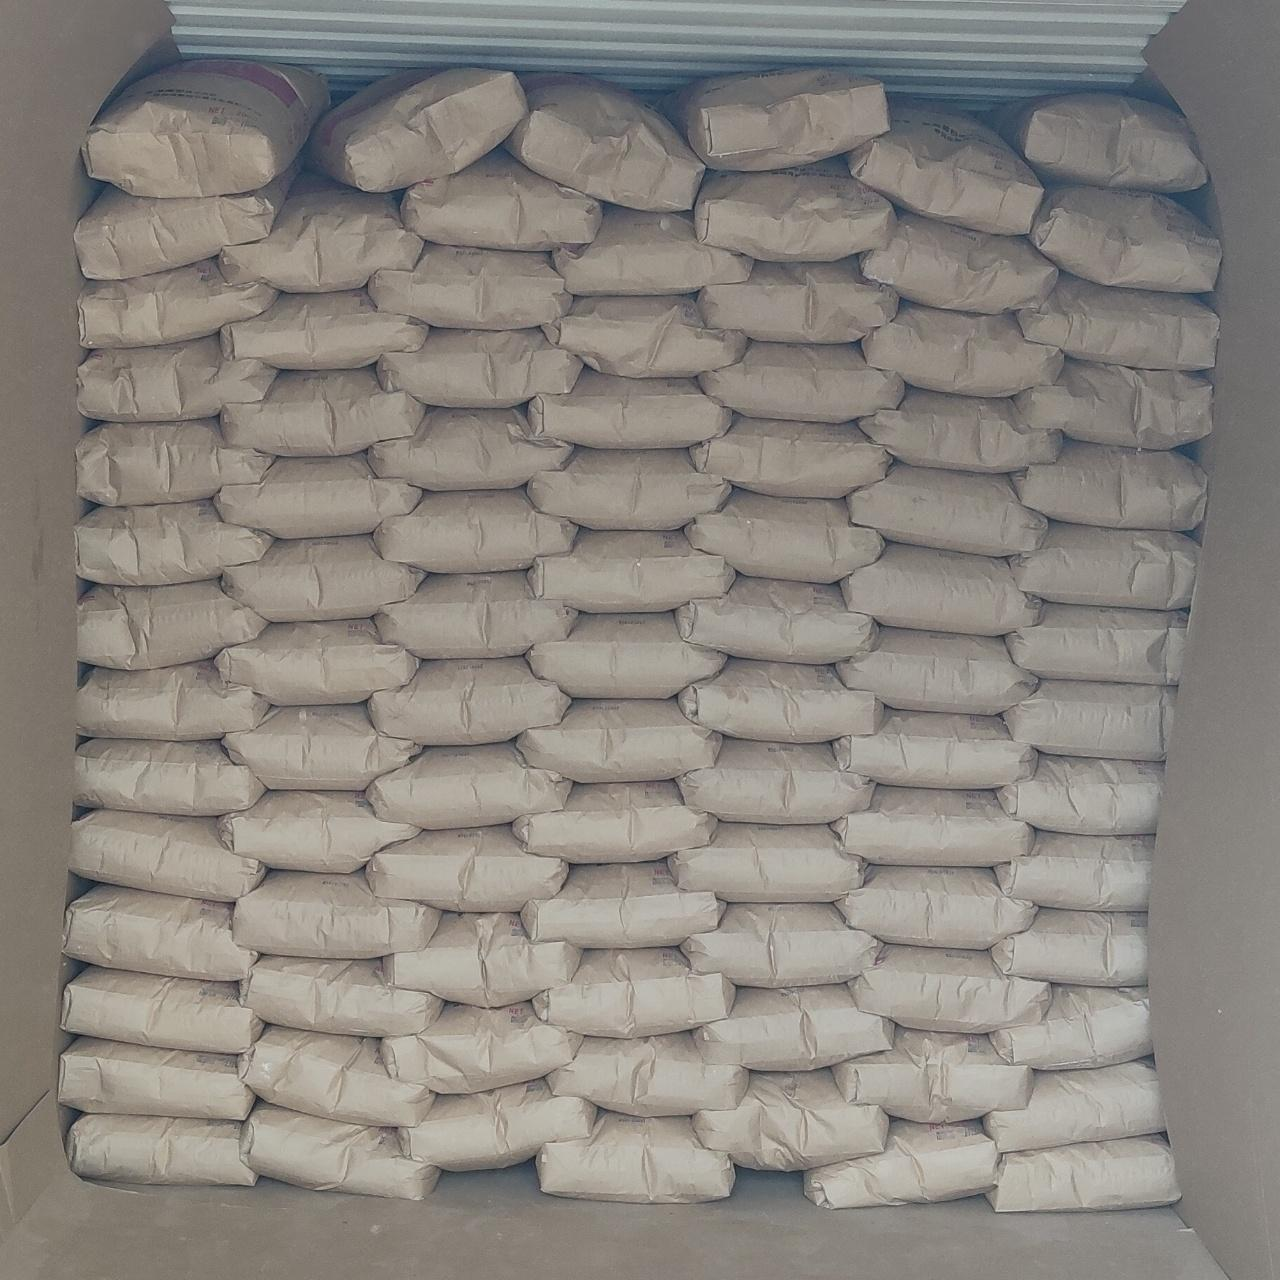sack: (86, 62, 328, 196), (309, 68, 525, 192), (506, 80, 702, 206), (850, 110, 1039, 230), (222, 176, 422, 288), (76, 178, 286, 278), (670, 70, 886, 166), (994, 94, 1206, 190), (694, 162, 894, 260), (1030, 186, 1220, 290), (402, 150, 598, 246), (240, 1026, 430, 1124), (694, 1070, 886, 1166), (862, 215, 1054, 309), (244, 1104, 438, 1198), (1016, 274, 1216, 366), (847, 464, 1046, 554), (864, 304, 1062, 394), (382, 1002, 580, 1092), (64, 886, 254, 980), (686, 490, 881, 580), (835, 1028, 1030, 1118), (384, 914, 580, 1005), (535, 948, 734, 1036), (79, 258, 275, 346), (72, 810, 263, 900), (234, 872, 438, 956), (554, 206, 750, 294), (399, 1080, 595, 1166), (224, 368, 422, 454), (368, 742, 566, 828), (522, 862, 722, 946), (842, 544, 1039, 629), (370, 658, 570, 742), (1014, 360, 1210, 445), (224, 536, 422, 620), (850, 946, 1048, 1030), (697, 258, 896, 342), (216, 620, 418, 702), (678, 578, 874, 662), (838, 626, 1034, 710), (216, 454, 420, 535), (368, 826, 566, 910), (64, 968, 263, 1051), (1012, 442, 1206, 526), (79, 336, 275, 420), (370, 244, 570, 326), (860, 388, 1060, 470), (540, 1112, 731, 1198), (806, 1121, 998, 1206), (376, 572, 574, 654), (694, 986, 892, 1068), (79, 580, 263, 668), (527, 612, 724, 694), (983, 1060, 1162, 1150), (838, 866, 1034, 948), (530, 530, 734, 608), (678, 738, 870, 822), (680, 660, 880, 740), (515, 782, 714, 862), (226, 706, 420, 788), (370, 408, 572, 486), (520, 700, 719, 779), (376, 490, 574, 570), (527, 448, 728, 526), (549, 1034, 745, 1114), (700, 342, 903, 420), (377, 328, 580, 406), (79, 420, 270, 502), (544, 297, 745, 374), (222, 290, 425, 366), (1010, 522, 1194, 606), (60, 1039, 254, 1118), (79, 502, 270, 583), (685, 904, 878, 983), (835, 710, 1034, 788), (690, 416, 888, 493), (241, 956, 440, 1034), (527, 370, 731, 445), (670, 822, 864, 900), (220, 792, 416, 870), (76, 660, 268, 738), (835, 787, 1030, 862), (1008, 604, 1186, 685), (988, 1136, 1178, 1210), (76, 740, 264, 813), (992, 986, 1150, 1068), (1005, 680, 1170, 758), (998, 754, 1160, 830), (68, 1116, 254, 1182), (996, 832, 1152, 910), (992, 908, 1148, 982)
